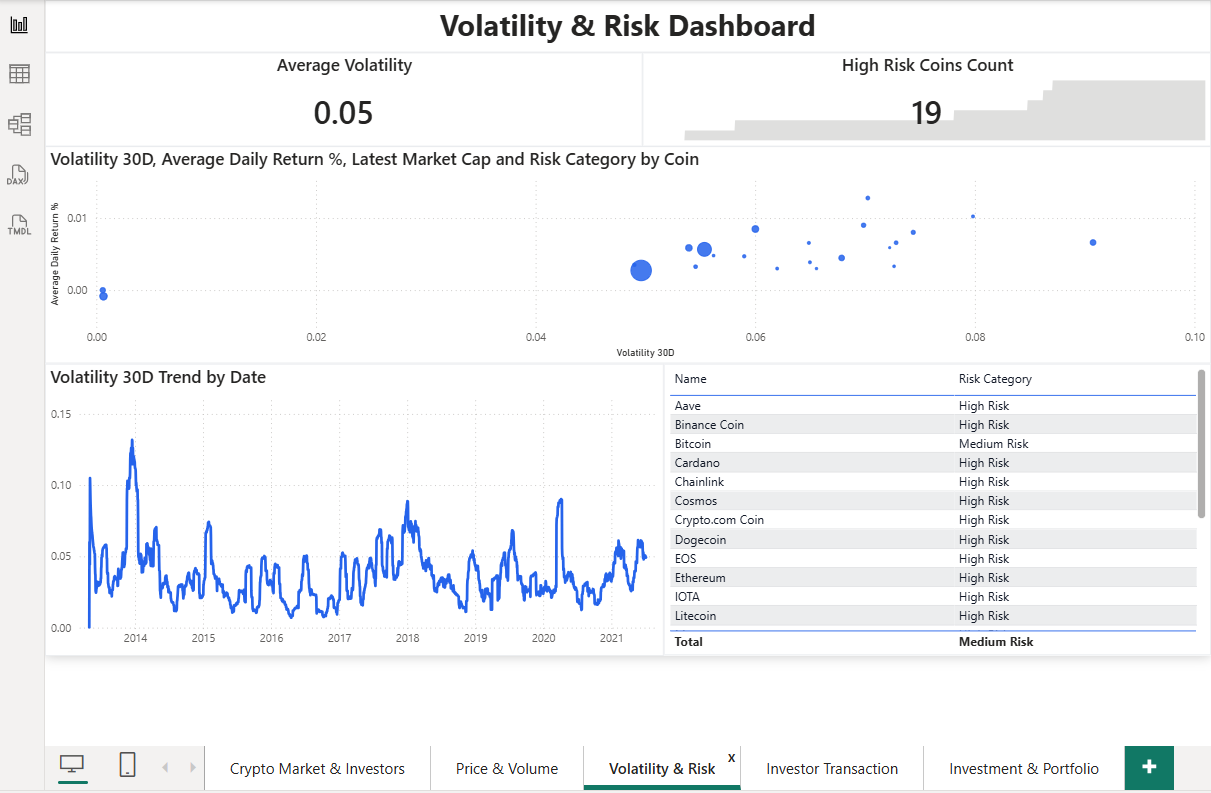

The dashboard page shown, as its layout file describes it:
{"tool":"powerbi","page":{"name":"Volatility & Risk","canvas":[1280,720],"ordinal":2},"visuals":[{"type":"textbox","box":[0,0,1280.3,57.6],"z":0},{"type":"kpi","title":"Average Volatility","fields":{"Indicator":["Crypto_historical_prices.Average Volatility 30D KPI"],"TrendLine":["Date.Date"]},"box":[0,57.6,655.9,102.9],"z":1000},{"type":"kpi","title":"High Risk Coins Count","fields":{"Indicator":["Crypto_historical_prices.High Risk Coins Count"],"TrendLine":["Date.Date"]},"box":[655.9,57.6,624.4,102.9],"z":2000},{"type":"scatterChart","title":"Volatility 30D, Average Daily Return %, Latest Market Cap and Risk Category by Coin","fields":{"X":["Crypto_historical_prices.Volatility 30D"],"Y":["Crypto_historical_prices.Average Daily Return %"],"Category":["Crypto_historical_prices.Name"],"Size":["Crypto_historical_prices.Latest Market Cap"]},"box":[0,160.5,1280.3,238.8],"z":3000},{"type":"lineChart","fields":{"Y":["Crypto_historical_prices.Volatility 30D Trend"],"Category":["Date.Date"]},"box":[0,399.3,679.2,321.1],"z":4000},{"type":"tableEx","fields":{"Values":["Crypto_historical_prices.Name","Crypto_historical_prices.Risk Category"]},"box":[679,400,601,320],"z":5000}]}

Visuals, with their boxes on the page's 1280x720 design canvas (x1, y1, x2, y2). These are canvas units, not pixel positions in the 1211x793 screenshot, which may show the page scaled, cropped or inside an application window:
textbox: left=0, top=0, right=1280, bottom=58
"Average Volatility" kpi: left=0, top=58, right=656, bottom=160
"High Risk Coins Count" kpi: left=656, top=58, right=1280, bottom=160
"Volatility 30D, Average Daily Return %, Latest Market Cap and Risk Category by Coin" scatterChart: left=0, top=160, right=1280, bottom=399
lineChart - Crypto_historical_prices.Volatility 30D Trend x Date.Date: left=0, top=399, right=679, bottom=720
tableEx - Crypto_historical_prices.Name x Crypto_historical_prices.Risk Category: left=679, top=400, right=1280, bottom=720
